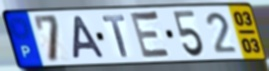2: (205, 11, 239, 55)
5: (170, 8, 205, 58)
7: (33, 14, 64, 64)
A: (72, 14, 107, 61)
E: (128, 10, 174, 61)
T: (100, 13, 130, 59)
